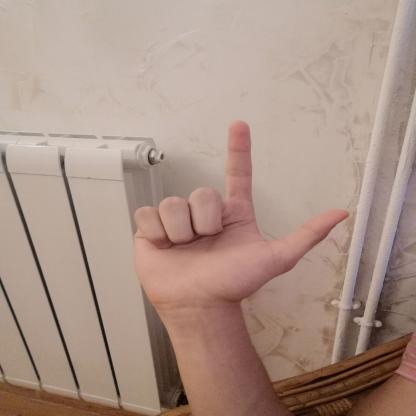LAAM: (111, 112, 366, 322)
